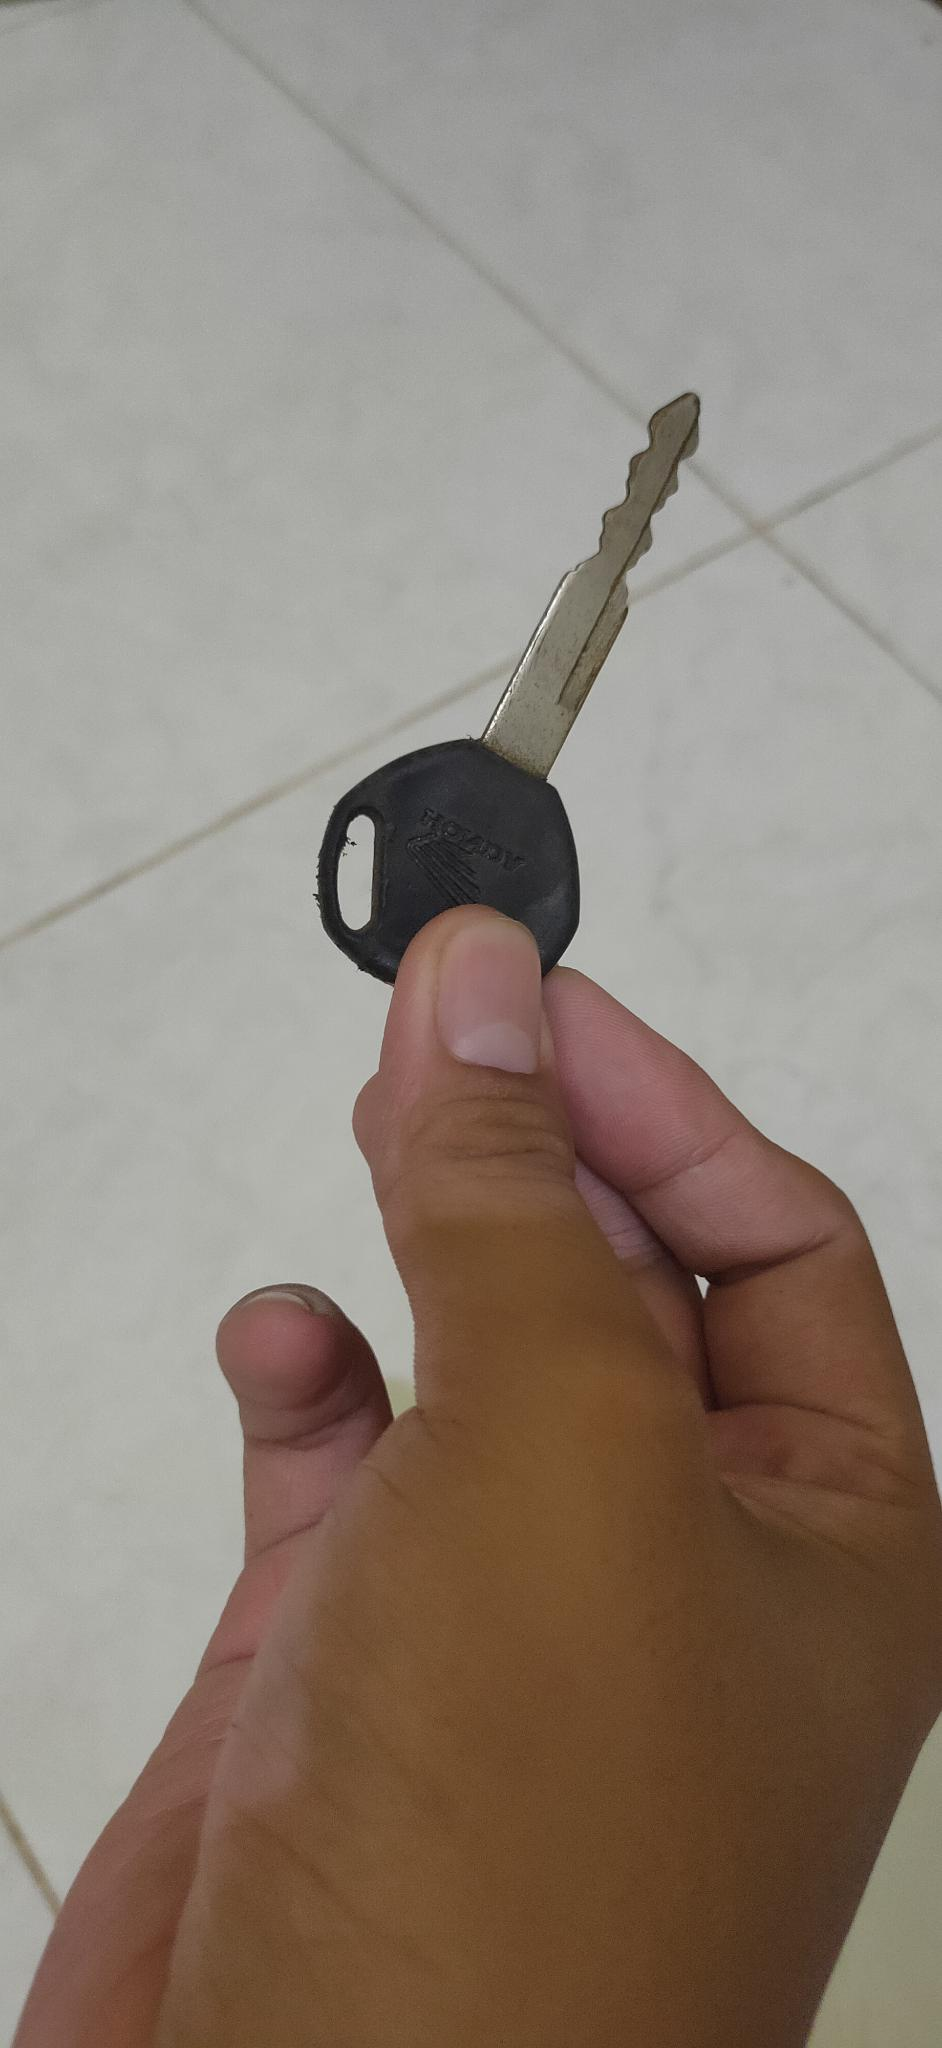keys: (317, 354, 736, 1034)
